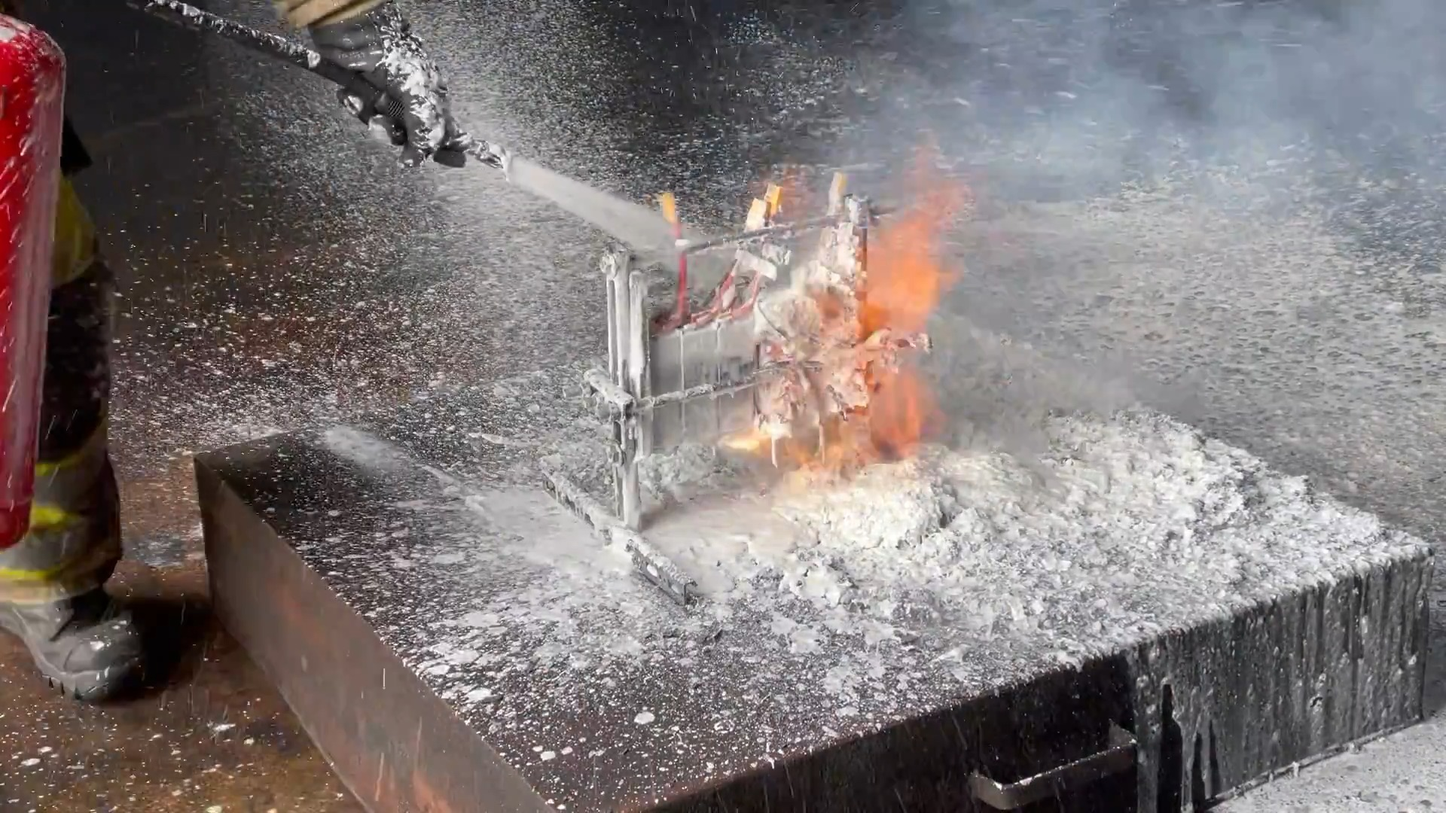fire: (716, 126, 969, 494)
smoke: (862, 0, 1394, 347)
